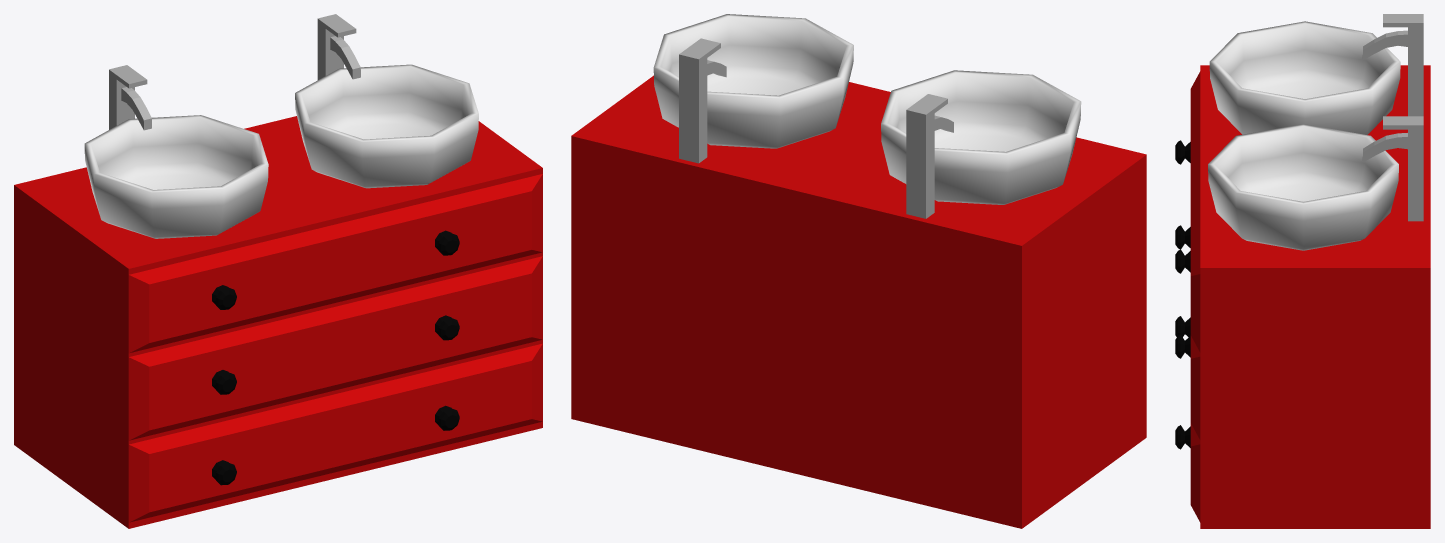
Rendered from lavabo2.fbx.
3 renders of one model, left to right at view 1: azimuth 30°, elevation 25°; view 2: azimuth 150°, elevation 25°; view 3: azimuth 270°, elevation 25°, orthographic. The views are drawn at different scales.
Parts seen in each view (by area): view 1: Cube; view 2: Cube; view 3: Cube.
Part boxes in pixels (box(x1,y1,x2,y2)): Cube: box(14, 14, 542, 528); Cube: box(571, 14, 1146, 528); Cube: box(1175, 14, 1430, 528).
Size of the model in its own units: 500 by 410 by 266.
